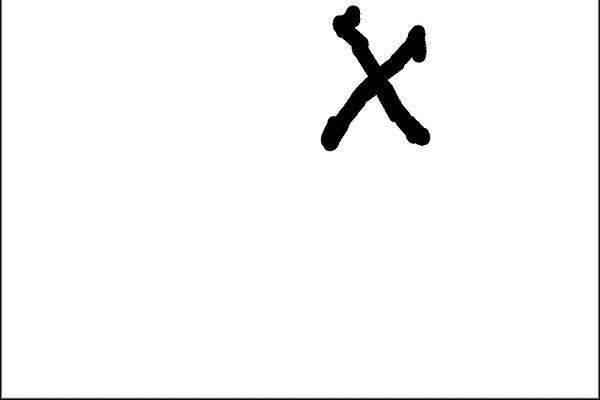X: (311, 0, 446, 157)
